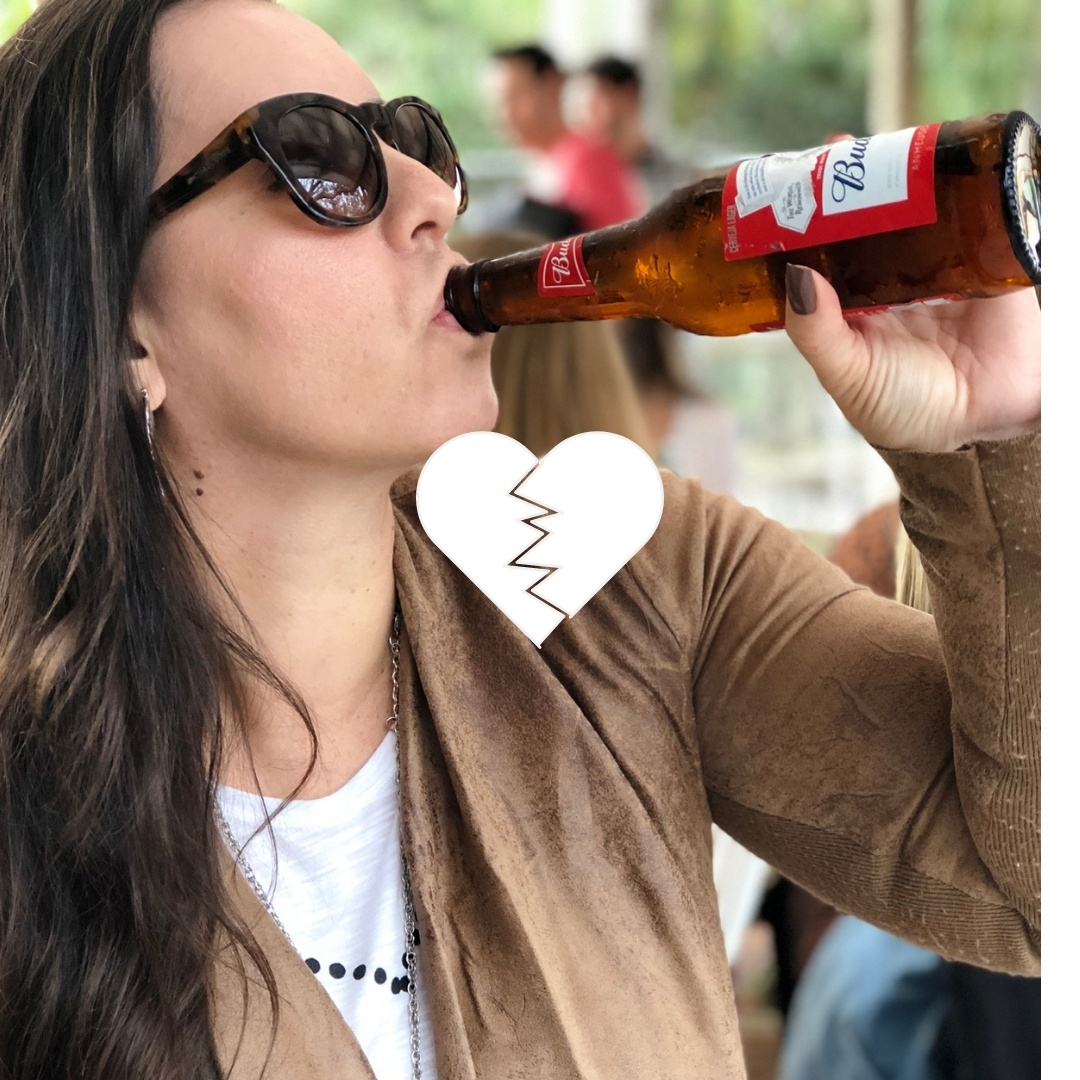beerBottle: (422, 114, 1044, 343)
